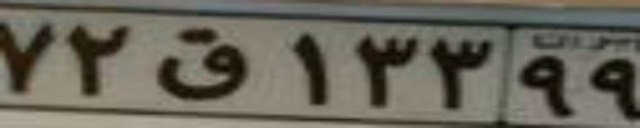1: (285, 32, 327, 104)
2: (64, 22, 130, 97)
3: (432, 36, 489, 110), (357, 35, 416, 106)
7: (0, 20, 60, 94)
9: (514, 54, 571, 119), (583, 57, 639, 121)
ghaf: (152, 26, 250, 100)
